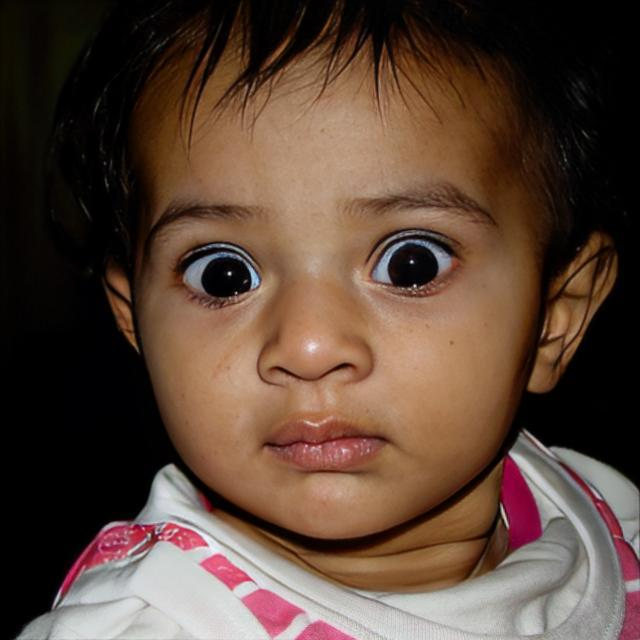fear: (136, 28, 537, 540)
